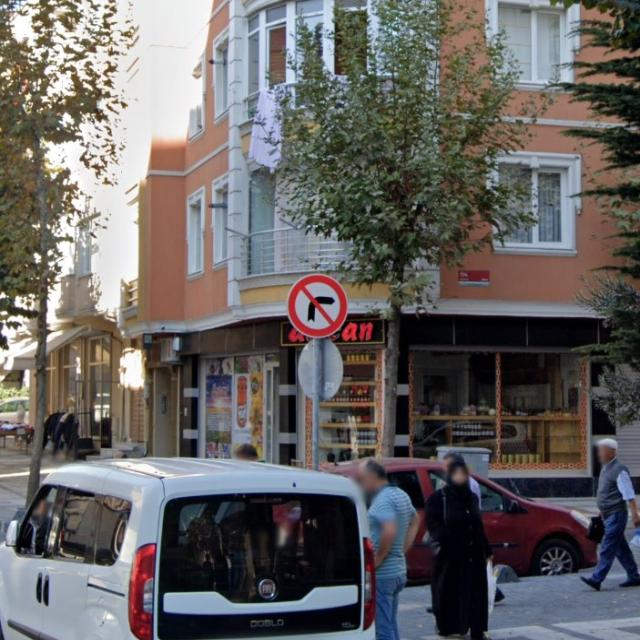sagadonulmez: (286, 275, 348, 339)
